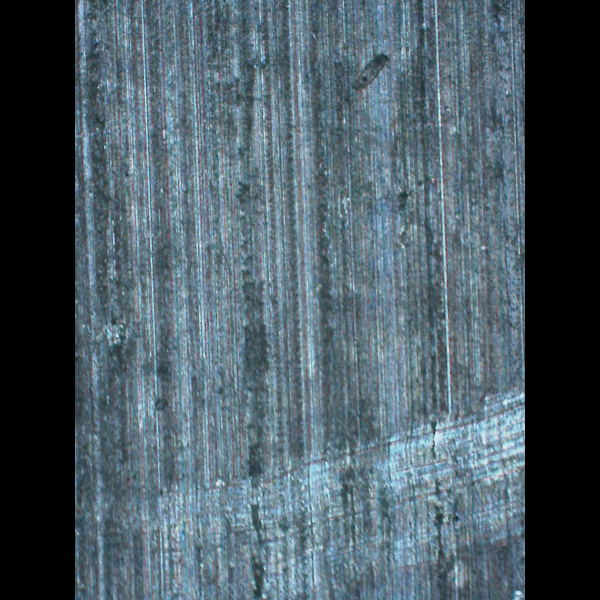d: (125, 385, 521, 599)
